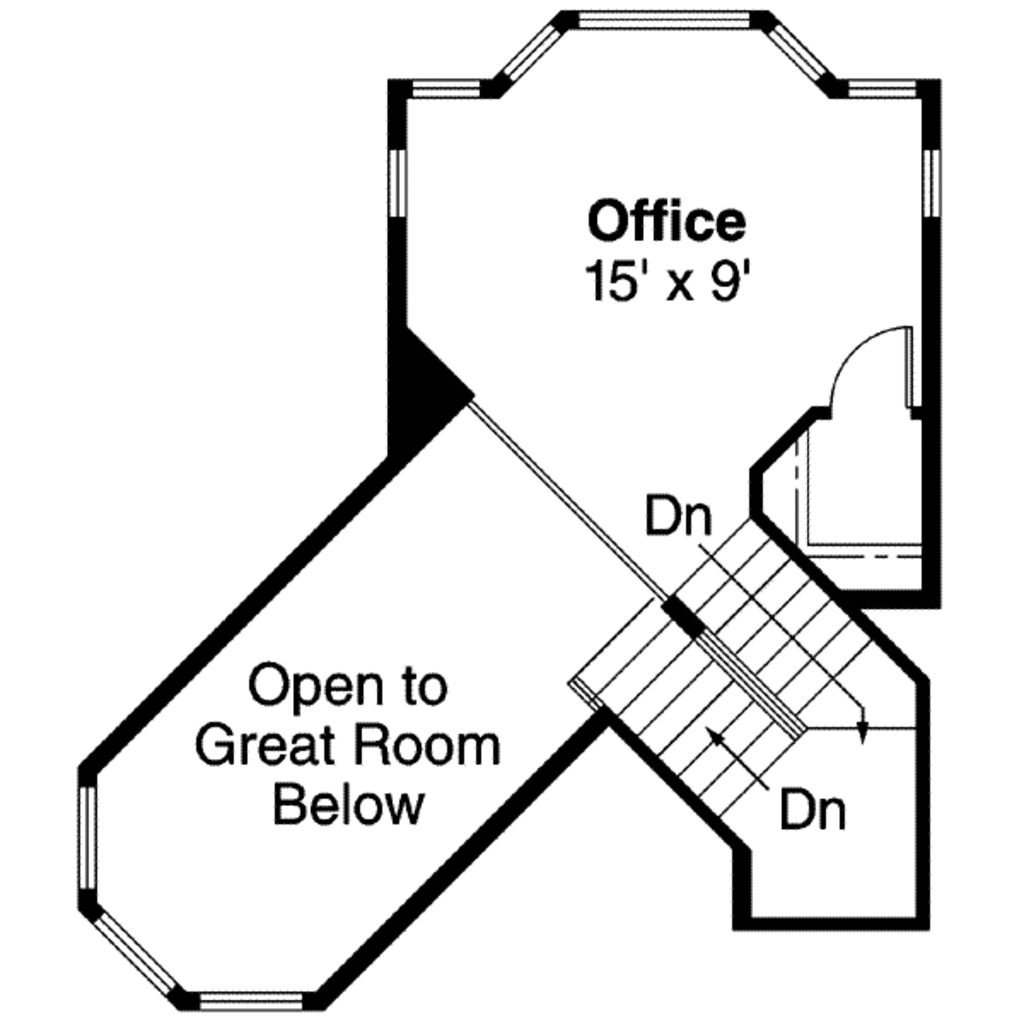door: (814, 311, 922, 420)
stairs: (568, 504, 936, 816)
window: (373, 142, 413, 222), (913, 146, 952, 227)
windows: (74, 773, 303, 1011), (411, 4, 919, 102)
